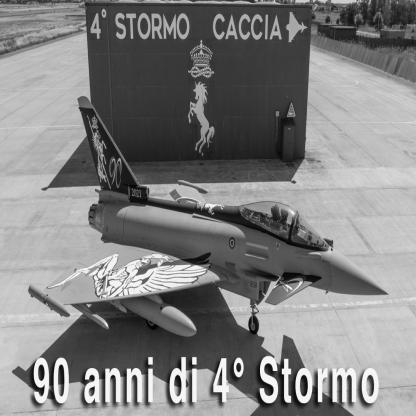EF2000: (29, 97, 390, 338)
